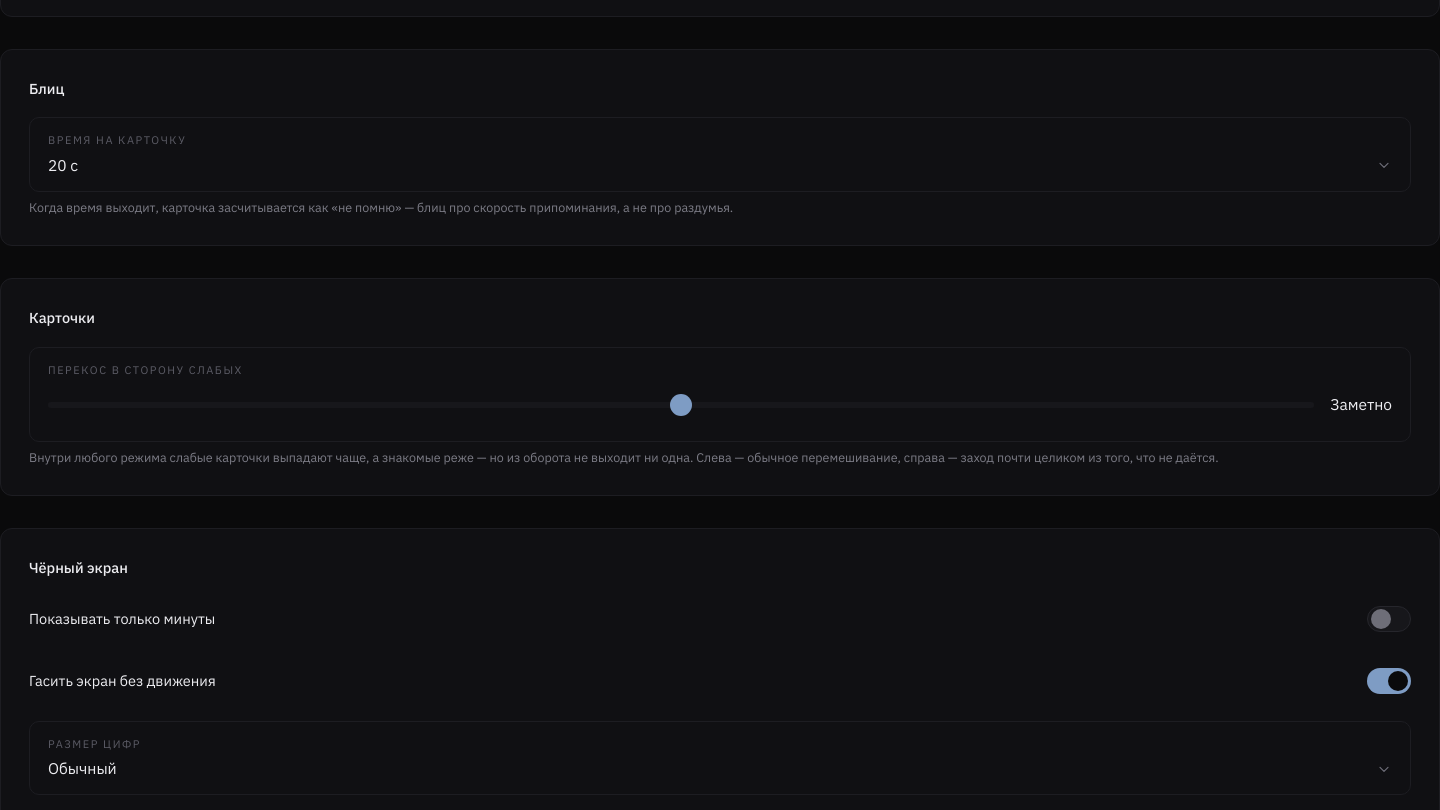
Test case: настройки › сохраняет сдвинутый перекос подбора
The width and height of the screenshot is (1440, 810).
(page scrolled)
Set the slider labelled "Перекос в сторону слабых" to "0". click: x=56, y=405
box: [48,383,1314,427]
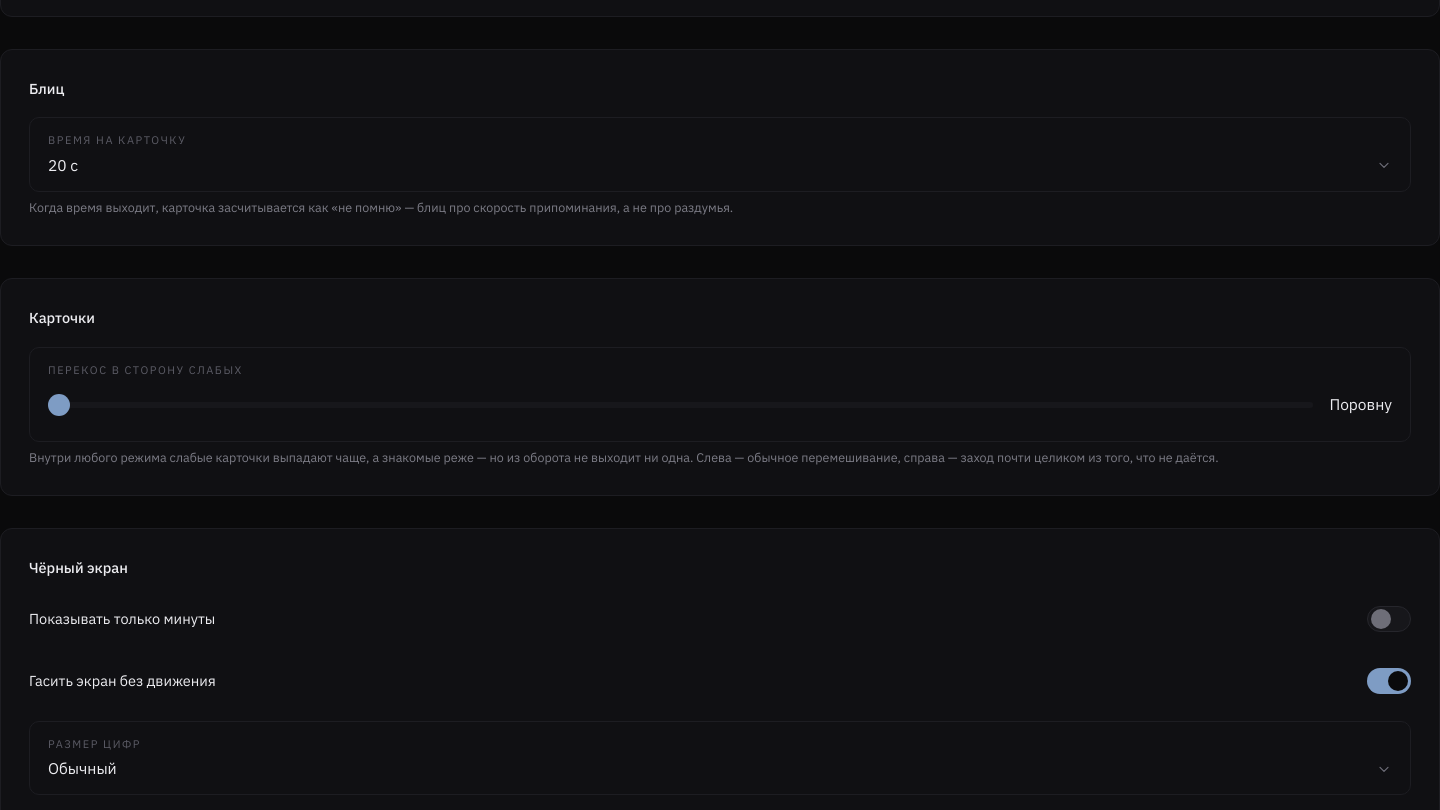
Expected: the text "Поровну" is shown, [1329,393,1392,417]
